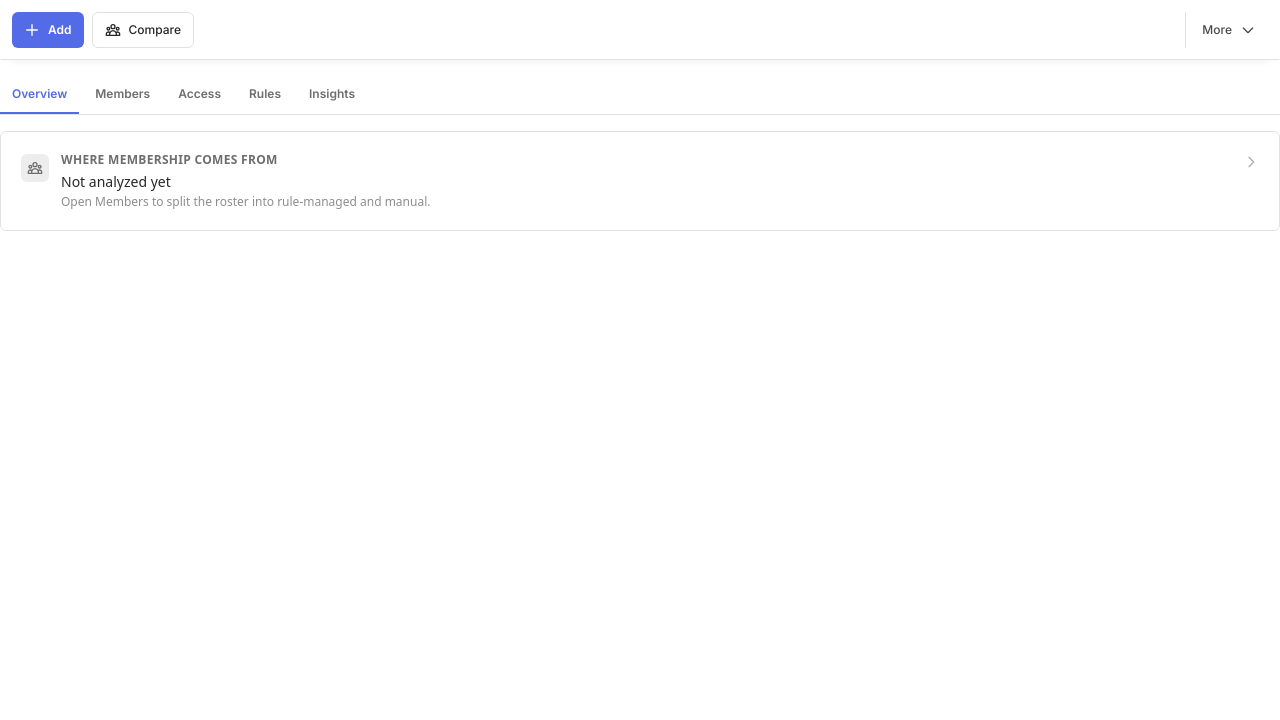
GroupDetailView › wires the action bar's Compare button to the group picker
expect the dialog "Compare with another group" is not shown: met
Click the button "Compare".
click(143, 30)  # box [92, 12, 194, 48]
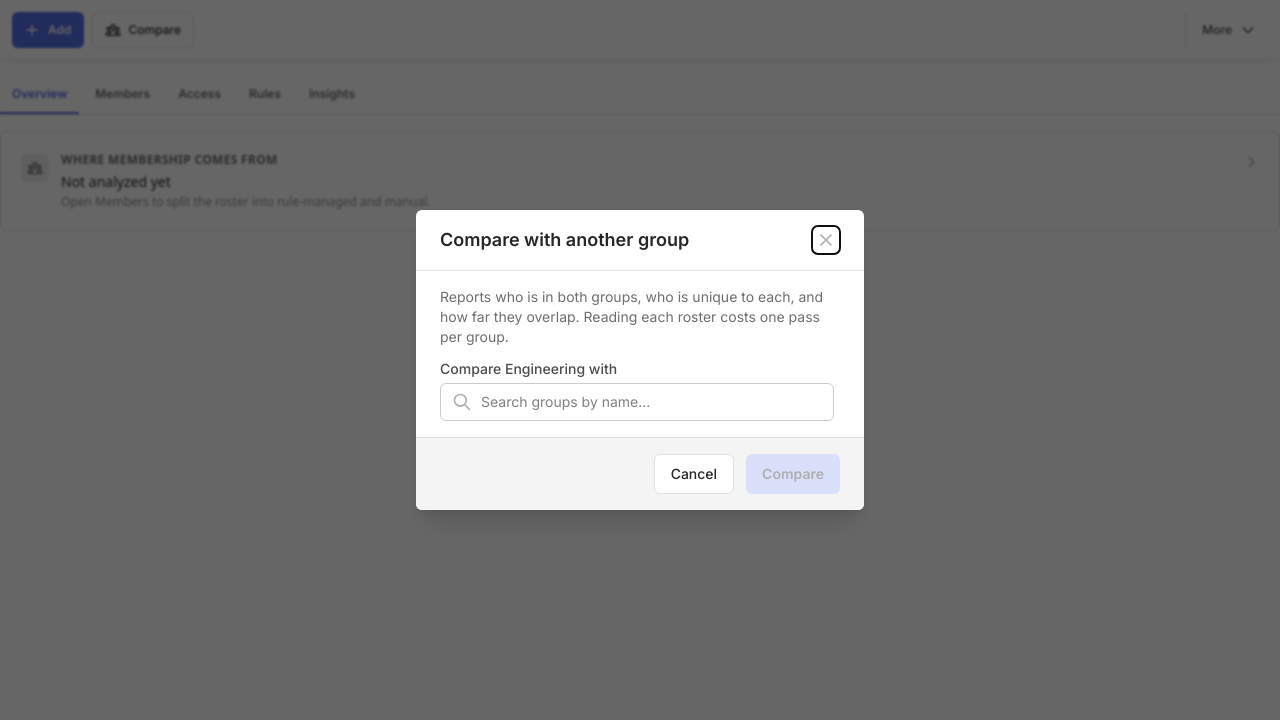
expect the dialog "Compare with another group" is shown: met, box [416, 210, 864, 510]
expect the button "Compare" is disabled: met, box [746, 454, 840, 494]
